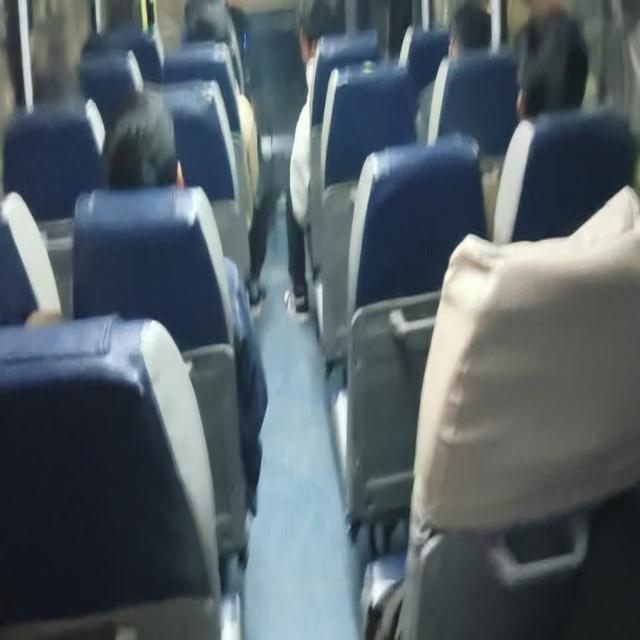person: (509, 30, 585, 130), (107, 109, 183, 193), (289, 6, 348, 61), (443, 6, 496, 64), (80, 25, 130, 70), (189, 14, 239, 58)
